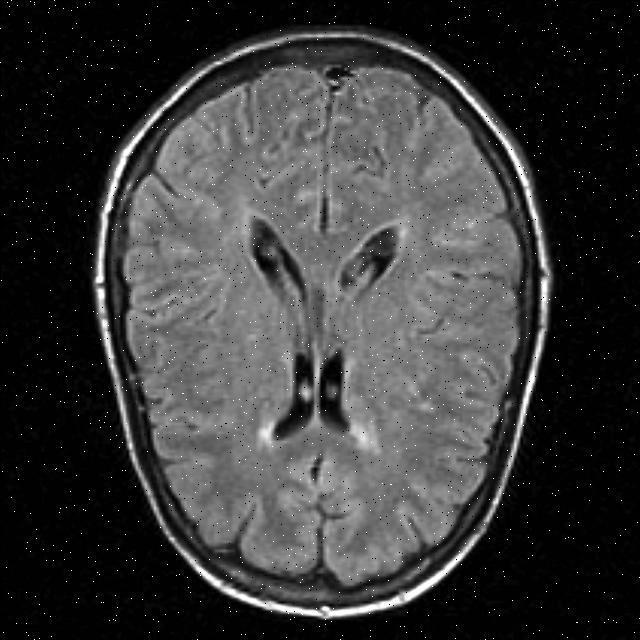No_Tumor: (93, 28, 552, 618)
